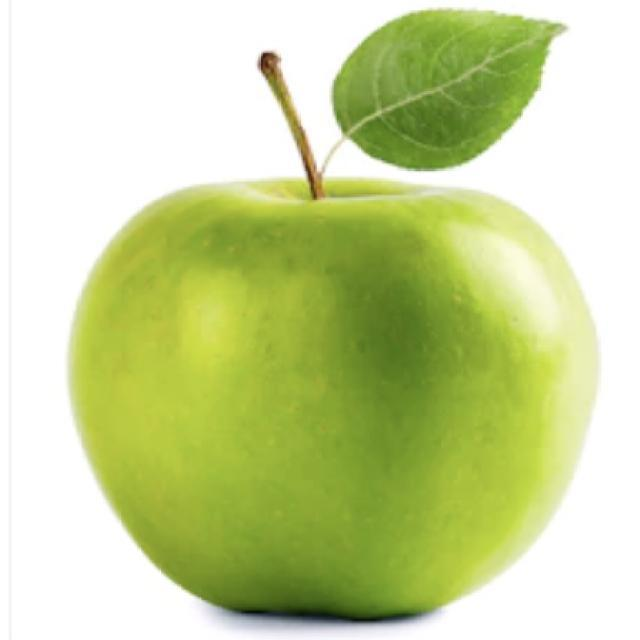Fresh Apple: (85, 158, 578, 597)
